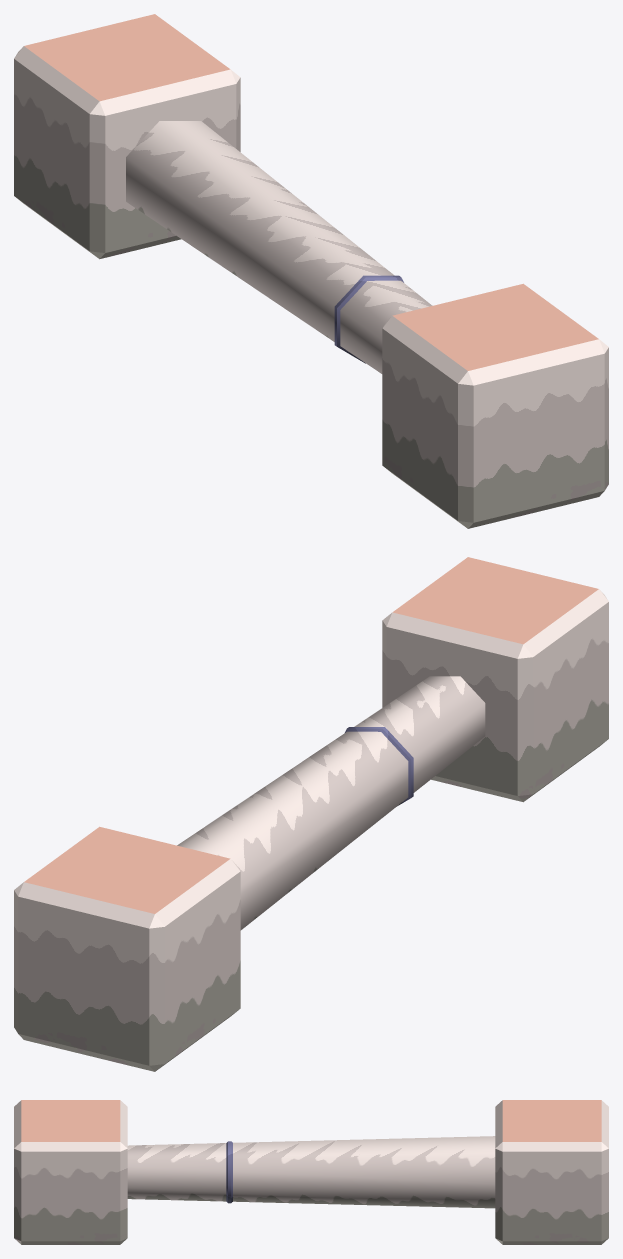
File: R4C_STRUT_LONG_LOD1.glb
3 renders of one model, top to bottom at view 1: azimuth 30°, elevation 25°; view 2: azimuth 150°, elevation 25°; view 3: azimuth 270°, elevation 25°, orthographic. The views are drawn at different scales.
Visible parts, largest first — view 1: R4C_STRUT_LONG_LOD1; view 2: R4C_STRUT_LONG_LOD1; view 3: R4C_STRUT_LONG_LOD1.
Boxes of the visible parts, bbox=[...] form: R4C_STRUT_LONG_LOD1: bbox=[14, 14, 608, 528]; R4C_STRUT_LONG_LOD1: bbox=[14, 557, 608, 1071]; R4C_STRUT_LONG_LOD1: bbox=[14, 1100, 608, 1244].
Bounding box in the file's own units: 0.52 × 0.52 × 2.72.
Materials: 3 (3 with a texture image).
